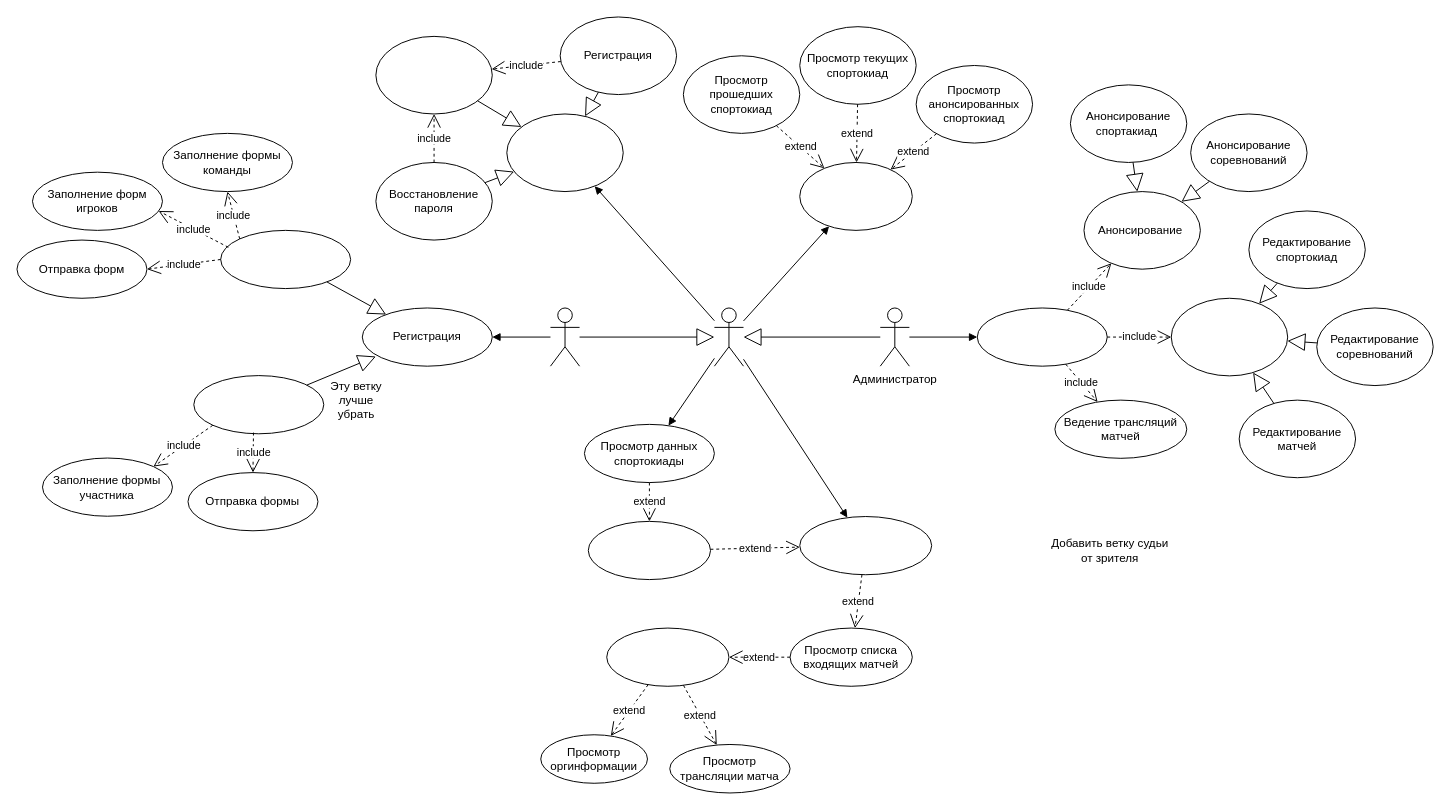
This 1450x810 diagram has some shape labels left out. The shapes that lost their labels are listed below. From the top down, each one's box as (x1, y1, x2, y2) in pixels, then its label:
(375, 35, 492, 114): Авторизация
(506, 113, 623, 192): Получение прав доступа
(799, 162, 912, 230): Просмотр списков спортокиад
(220, 229, 351, 289): Регистрация на соревнование
(550, 307, 580, 366): Участник соревнований
(713, 307, 744, 366): Зритель
(976, 307, 1107, 366): Администрирование соревнований
(1170, 297, 1288, 376): Редактирование
(193, 375, 324, 434): Регистрация на спортокиаду
(587, 520, 711, 580): Просмотр списка входящих соревнований
(799, 516, 932, 575): Просмотр данных соревнования
(606, 627, 729, 686): Просмотр страницы матча
